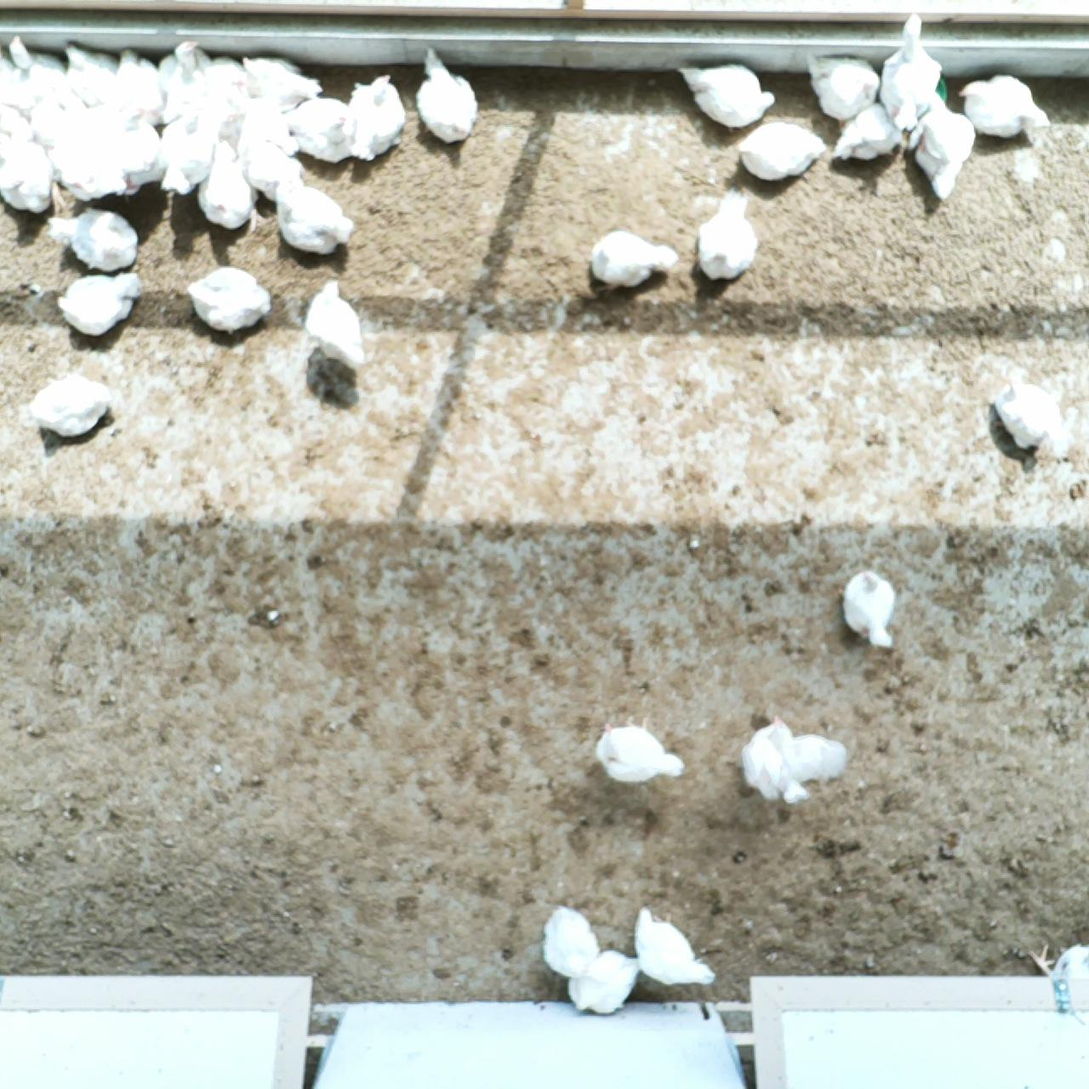chicken: (741, 717, 852, 806), (877, 9, 942, 133), (912, 93, 977, 203), (634, 907, 718, 986), (994, 370, 1066, 459), (959, 72, 1053, 140), (678, 63, 777, 125), (274, 180, 356, 253), (47, 208, 140, 271), (419, 46, 478, 143), (304, 281, 365, 371), (28, 371, 112, 436), (284, 94, 359, 166), (700, 189, 757, 283), (191, 268, 272, 334), (738, 123, 827, 183), (239, 51, 328, 111), (598, 724, 688, 783), (57, 273, 142, 335), (592, 232, 680, 291), (55, 133, 128, 204), (159, 108, 219, 194), (806, 53, 880, 122), (350, 72, 407, 161), (1, 35, 70, 108), (568, 949, 642, 1015), (201, 138, 253, 229), (828, 100, 903, 163), (106, 112, 167, 189), (842, 567, 897, 650), (198, 54, 252, 138), (111, 44, 170, 119), (543, 906, 601, 976), (0, 142, 52, 215), (249, 137, 305, 201), (63, 40, 118, 101), (162, 37, 211, 105), (31, 97, 78, 150), (0, 91, 32, 145)
